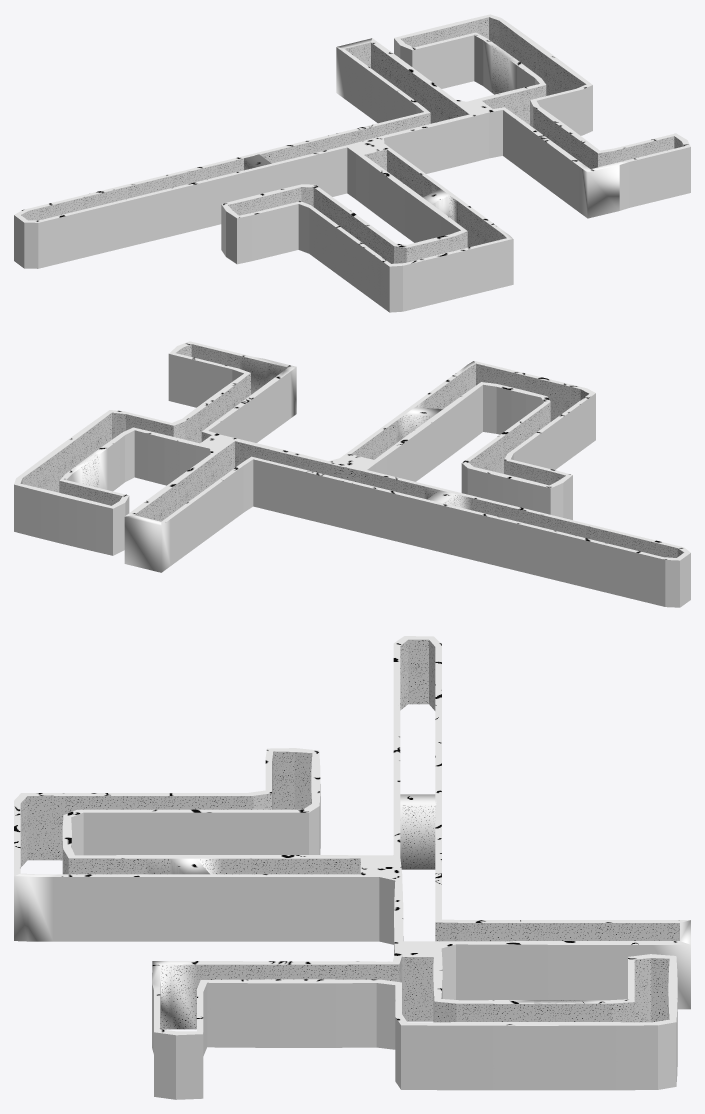
The model's file is Level_1.fbx.
The picture shows the model from 3 angles, top to bottom: view 1: azimuth 30°, elevation 25°; view 2: azimuth 150°, elevation 25°; view 3: azimuth 270°, elevation 25°; orthographic projection. The views are drawn at different scales.
Visible parts, largest first — view 1: Cube.001; view 2: Cube.001; view 3: Cube.001.
Part boxes in pixels (x1,y1,x2,y2): Cube.001: (14, 14, 690, 312); Cube.001: (14, 341, 690, 607); Cube.001: (14, 636, 690, 1099).
Size of the model in its own units: 4.95 by 0.3737 by 3.55.
